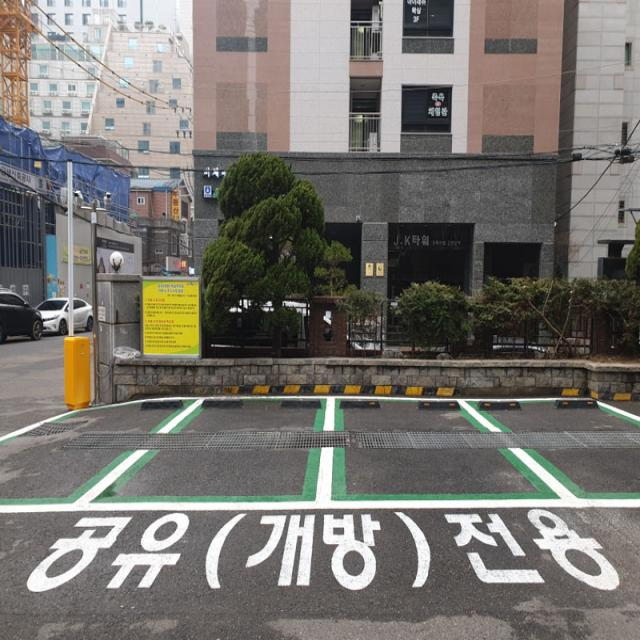empty: (329, 390, 547, 513), (100, 401, 330, 511), (0, 396, 183, 513), (471, 384, 640, 508)
